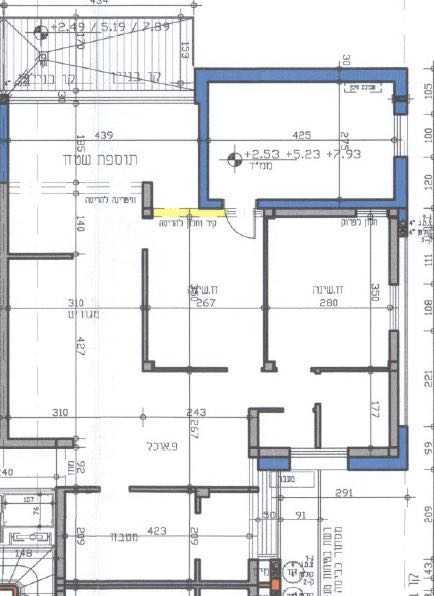wall: (197, 69, 404, 79), (257, 200, 404, 207), (198, 72, 206, 198), (350, 457, 406, 469)
